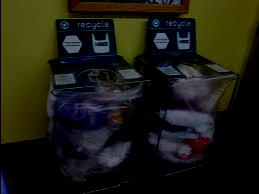Plastic: (48, 58, 133, 187), (147, 42, 218, 174)
